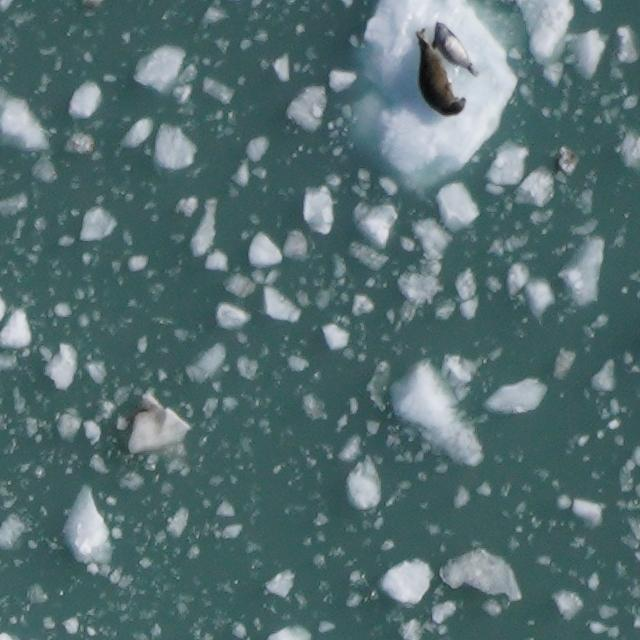seal: (412, 24, 470, 119), (429, 18, 483, 79)
